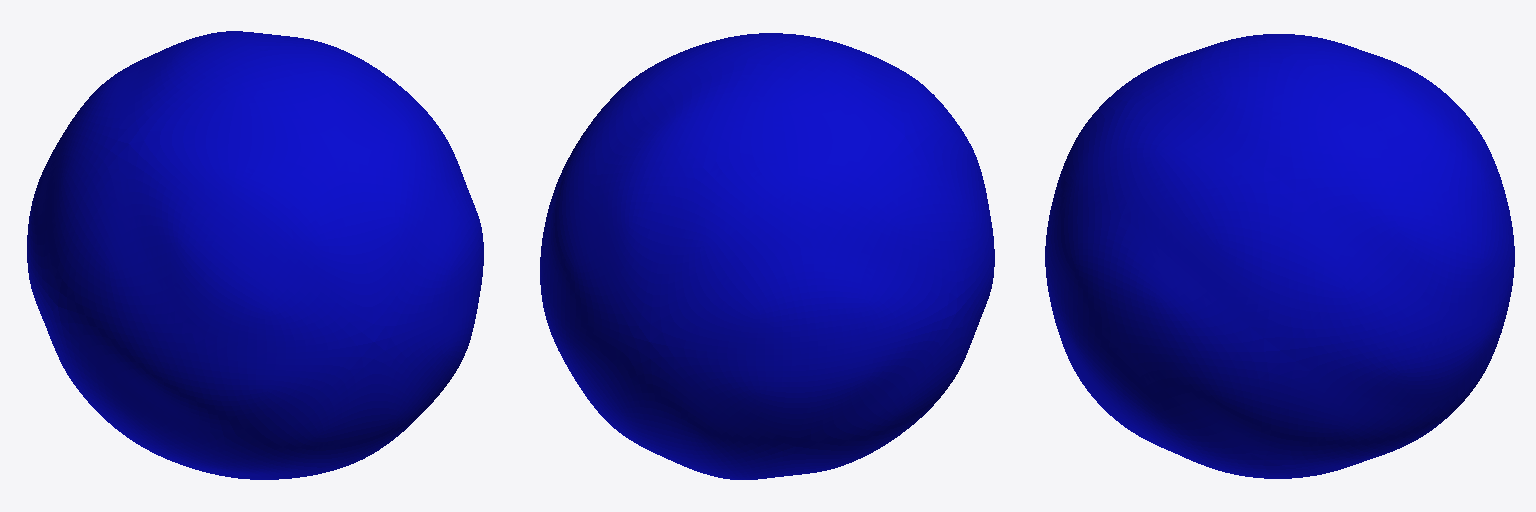
Rendered from overball.obj.
3 renders of one model, left to right at view 1: azimuth 30°, elevation 25°; view 2: azimuth 150°, elevation 25°; view 3: azimuth 270°, elevation 25°, orthographic.
Visible parts, largest first — view 1: 球体.002; view 2: 球体.002; view 3: 球体.002.
Boxes of the visible parts, x1=… form: 球体.002: x1=27, y1=31, x2=483, y2=479; 球体.002: x1=540, y1=33, x2=994, y2=479; 球体.002: x1=1045, y1=34, x2=1514, y2=478.
Bounding box in the file's own units: 3.4 × 3.39 × 3.58.